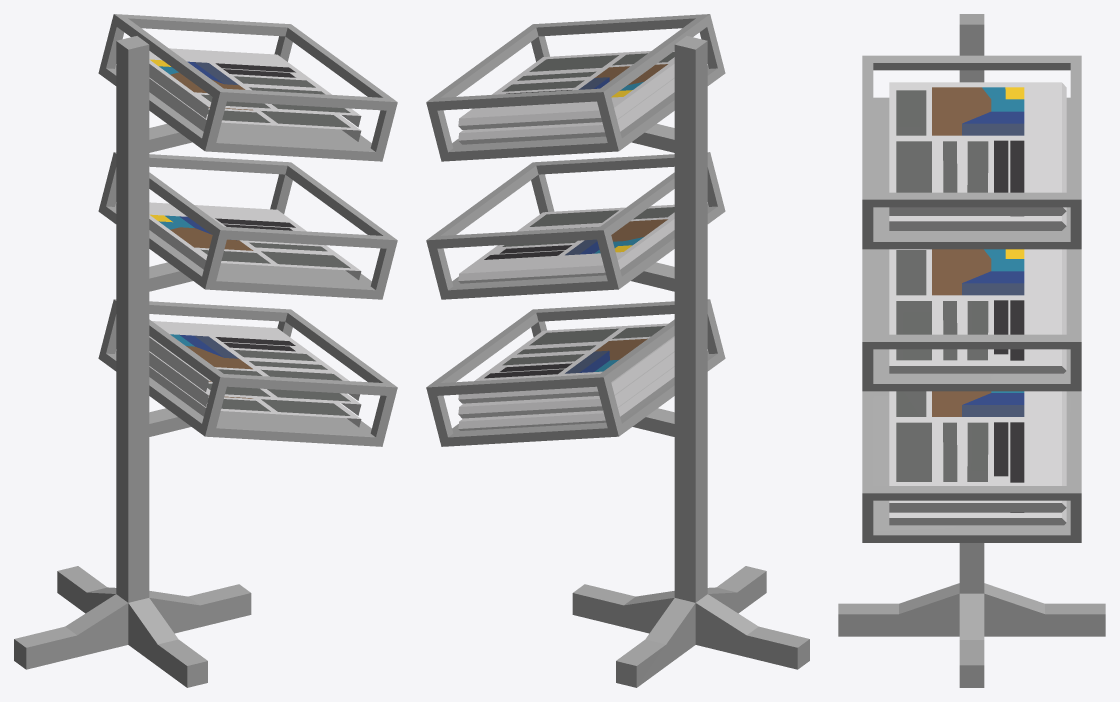
The model's file is SM_nespaperRack_02.glb.
3 renders of one model, left to right at view 1: azimuth 30°, elevation 25°; view 2: azimuth 150°, elevation 25°; view 3: azimuth 270°, elevation 25°, orthographic. The views are drawn at different scales.
Visible parts, largest first — view 1: SM_nespaperRack_02; view 2: SM_nespaperRack_02; view 3: SM_nespaperRack_02.
Boxes of the visible parts, bbox=[...] form: SM_nespaperRack_02: bbox=[14, 14, 397, 687]; SM_nespaperRack_02: bbox=[426, 14, 809, 687]; SM_nespaperRack_02: bbox=[838, 14, 1105, 687].
Size of the model in its own units: 0.8938 by 1.57 by 0.6202.
Materials: 1 (1 with a texture image).
